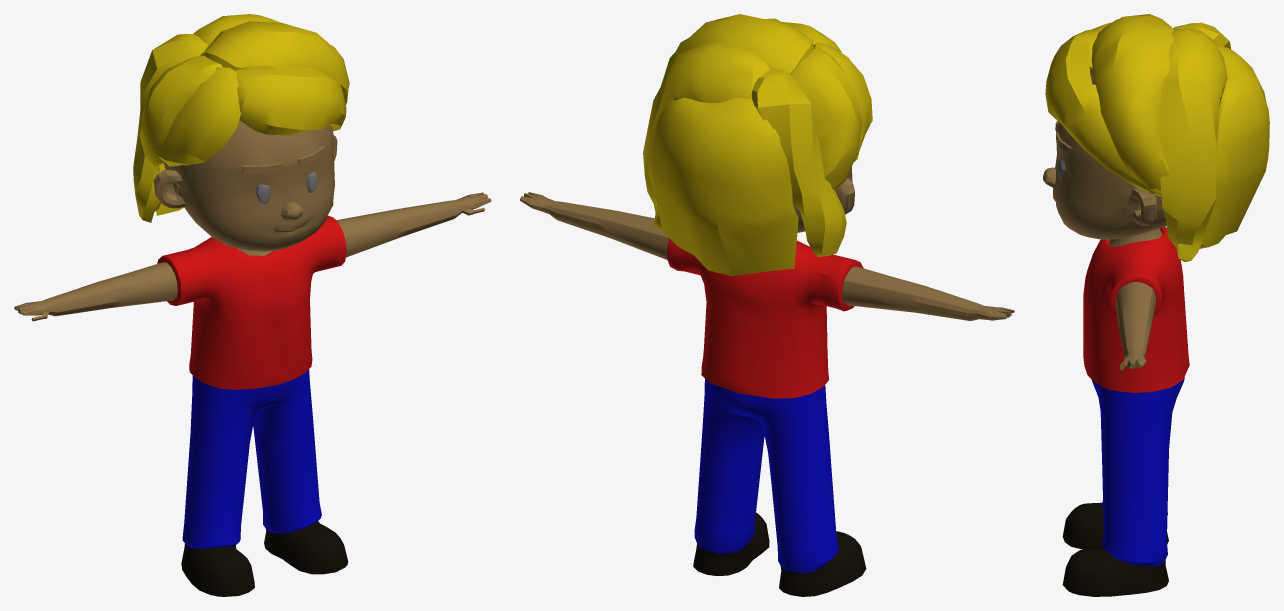
File: Sarah.fbx
3 views of the same model, side by side, from view 1: azimuth 30°, elevation 25°; view 2: azimuth 150°, elevation 25°; view 3: azimuth 270°, elevation 25° (orthographic). The views are drawn at different scales.
Parts seen in each view (by area): view 1: girlhairhigh, body_low, tshirt_low, pants_low, shoes_low; view 2: girlhairhigh, pants_low, tshirt_low, body_low, shoes_low; view 3: girlhairhigh, tshirt_low, pants_low, body_low, shoes_low.
Boxes of the visible parts, left/top/right/bottom form: girlhairhigh: left=133, top=14, right=349, bottom=222; body_low: left=14, top=120, right=491, bottom=321; tshirt_low: left=157, top=215, right=346, bottom=389; pants_low: left=182, top=369, right=321, bottom=548; shoes_low: left=181, top=521, right=348, bottom=596; girlhairhigh: left=643, top=14, right=872, bottom=276; pants_low: left=694, top=378, right=838, bottom=573; tshirt_low: left=667, top=238, right=863, bottom=398; body_low: left=520, top=167, right=1014, bottom=320; shoes_low: left=693, top=512, right=866, bottom=596; girlhairhigh: left=1045, top=14, right=1269, bottom=261; tshirt_low: left=1083, top=226, right=1189, bottom=392; pants_low: left=1092, top=377, right=1184, bottom=566; body_low: left=1043, top=69, right=1166, bottom=370; shoes_low: left=1062, top=502, right=1168, bottom=596.
Bounding box in the file's own units: 106 × 114 × 43.54.
